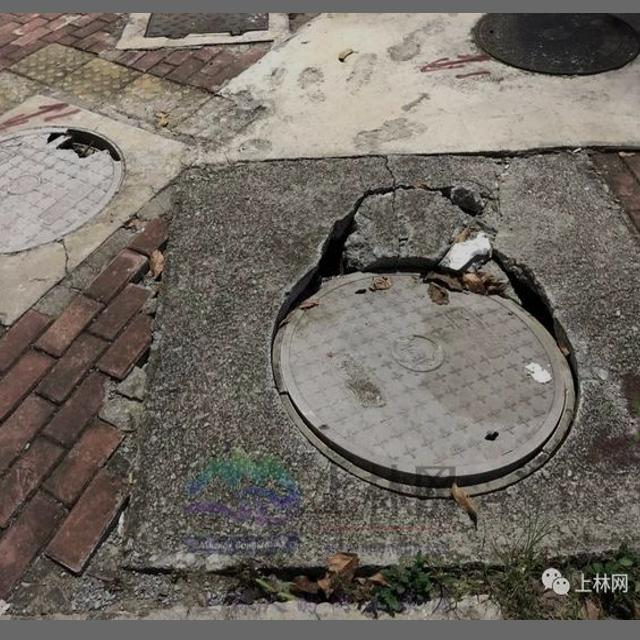circle: (110, 134, 640, 573)
